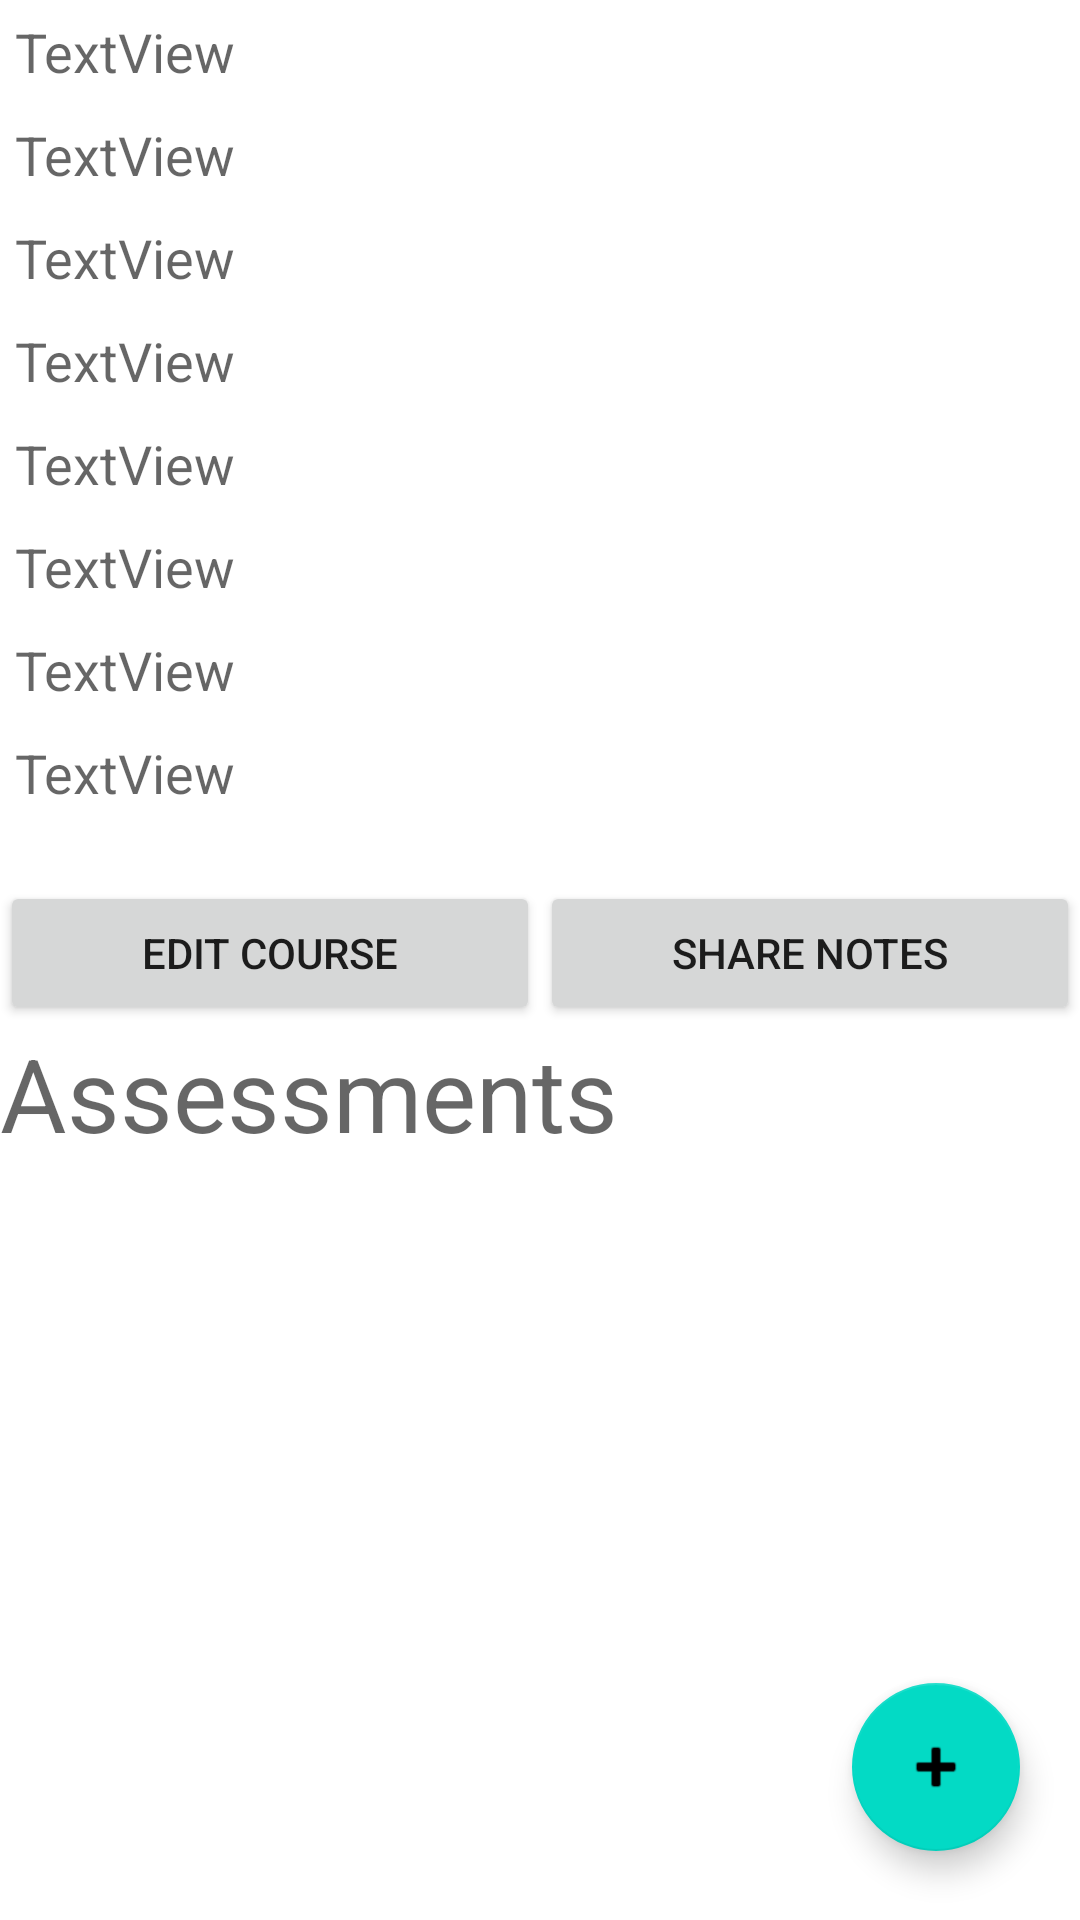

Named icons in this screenshot (1080 x 1920) and their bounding boxes, [x1, y1, x2, y2]:
add: [852, 1683, 1020, 1851]
